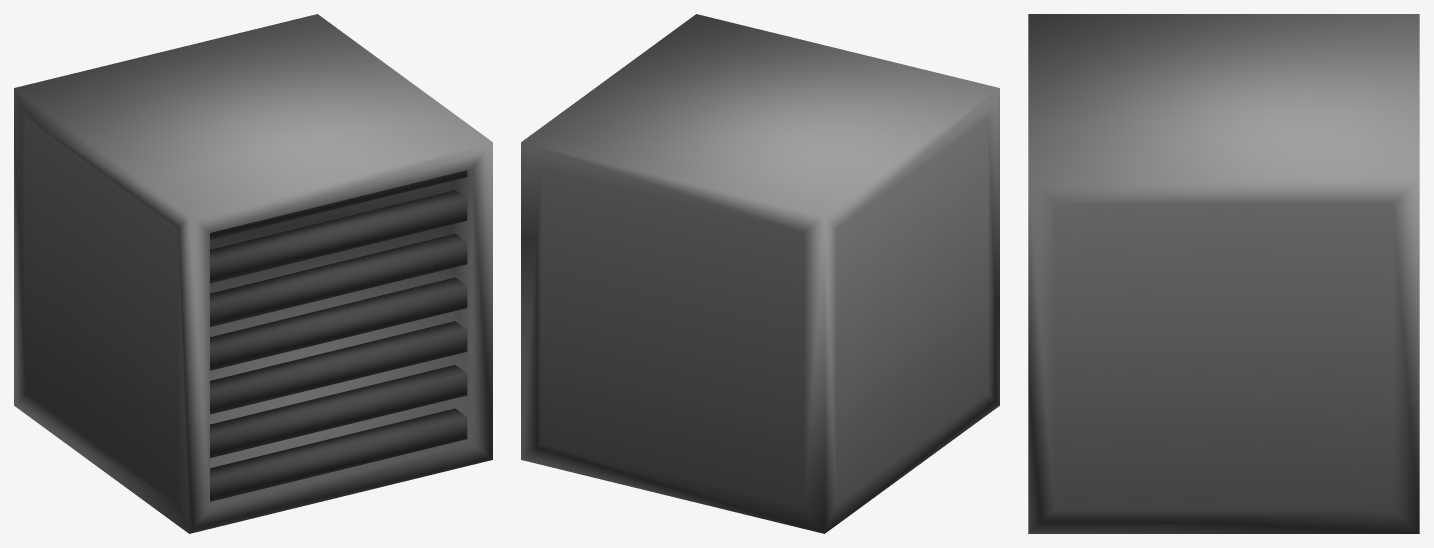
The model's file is TubulationEndEng.fbx.
3 views of the same model, side by side, from view 1: azimuth 30°, elevation 25°; view 2: azimuth 150°, elevation 25°; view 3: azimuth 270°, elevation 25° (orthographic). The views are drawn at different scales.
Parts seen in each view (by area): view 1: TubulationEndEng; view 2: TubulationEndEng; view 3: TubulationEndEng.
Boxes of the visible parts, box(x1,y1,x2,y2) form: TubulationEndEng: box(14, 14, 492, 533); TubulationEndEng: box(521, 14, 999, 533); TubulationEndEng: box(1028, 14, 1419, 533).
Bounding box in the file's own units: 60 × 60 × 60.
Materials: 1 (1 with a texture image).
